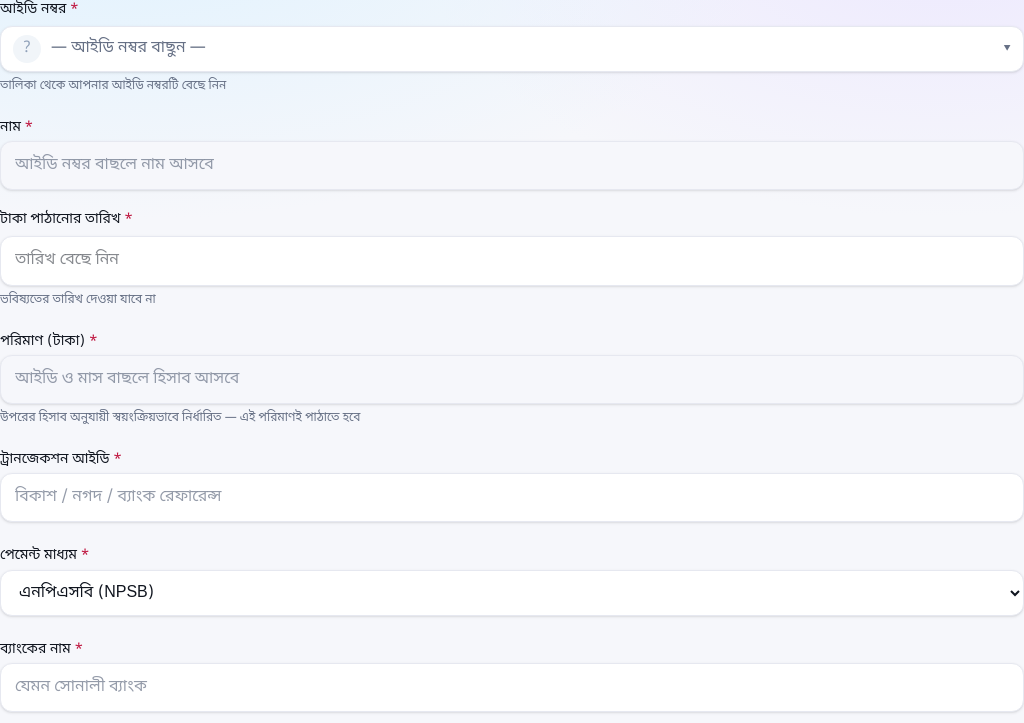
Test: public submission form — ID selector › fills the name when an ID is selected
The width and height of the screenshot is (1024, 723).
Expected: the field labelled "নাম *" is empty, [0,141,1023,190]
What coordinates should you click on to do the following:
click the dropdown labelled "? — আইডি নম্বর বাছুন — ▾"
I would click on:
 (128, 48)
Its box is [0,26,1023,72].
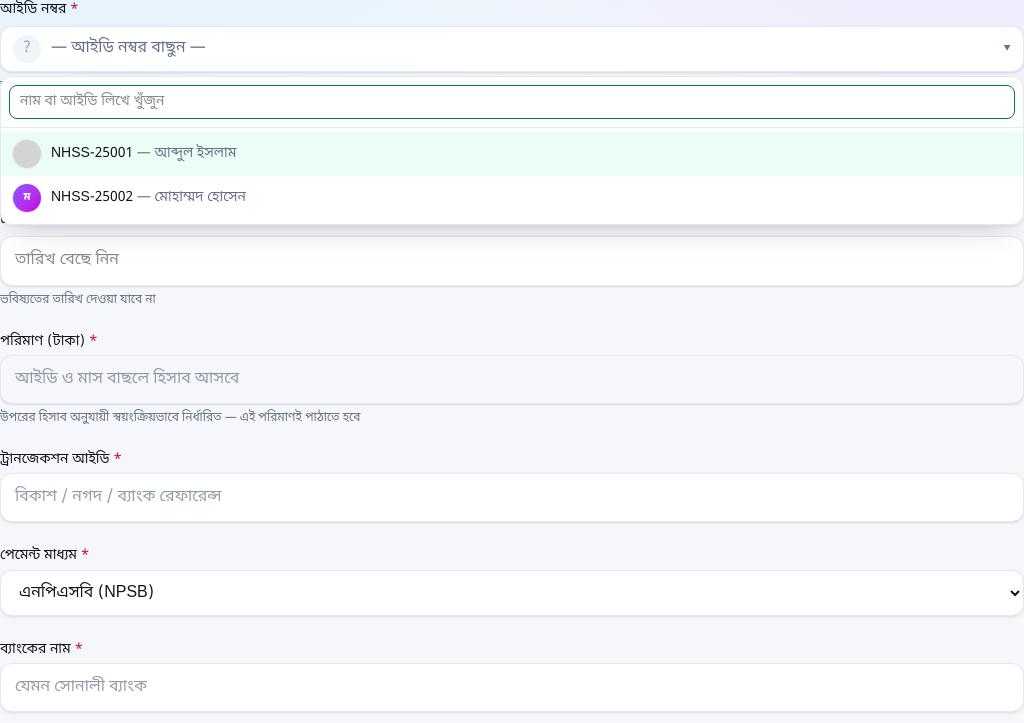
What coordinates should you click on to do the following:
click the option "NHSS-25001 — আব্দুল ইসলাম"
I would click on:
 (92, 154)
Its box is [1,132,1023,176].
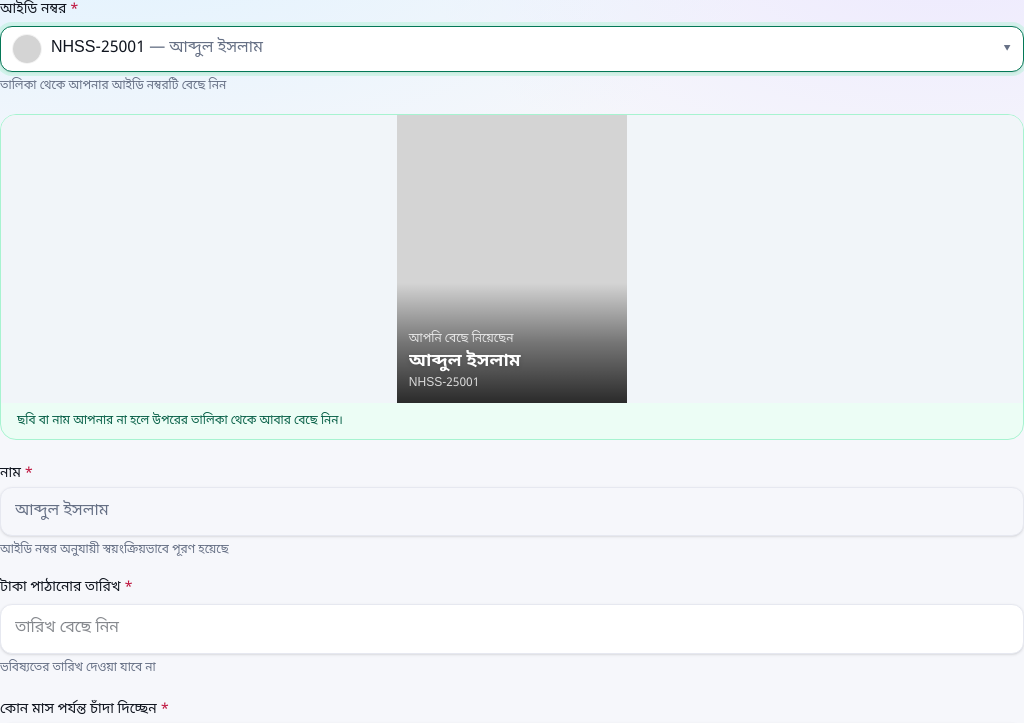
Expected: the field labelled "নাম *" holds "আব্দুল ইসলাম", [0,487,1023,536]
